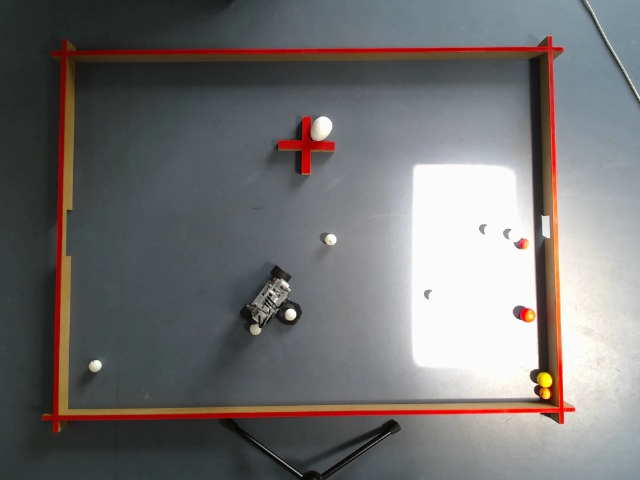big_goal: (56, 207, 72, 257)
cross: (276, 116, 335, 174)
egg: (311, 114, 332, 141)
orange: (538, 387, 552, 399)
robot: (238, 264, 303, 324)
small_goal: (542, 215, 558, 240)
wall: (538, 48, 564, 407), (52, 402, 558, 420), (68, 45, 544, 63), (52, 50, 75, 411)
white: (322, 233, 337, 245), (248, 324, 262, 335), (89, 360, 102, 371), (284, 308, 295, 320), (428, 290, 437, 302), (507, 228, 515, 239), (482, 225, 491, 234)
